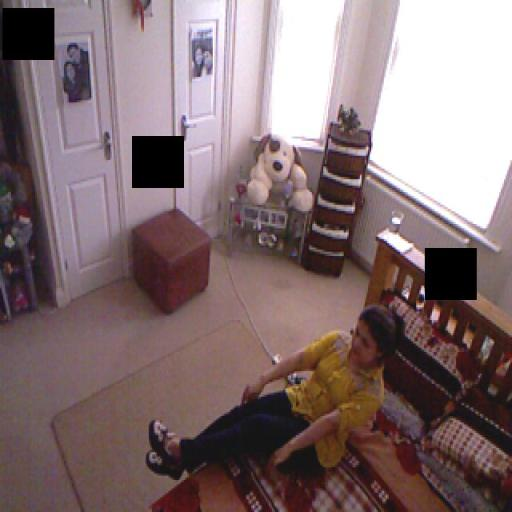Fall: (146, 305, 395, 482)
